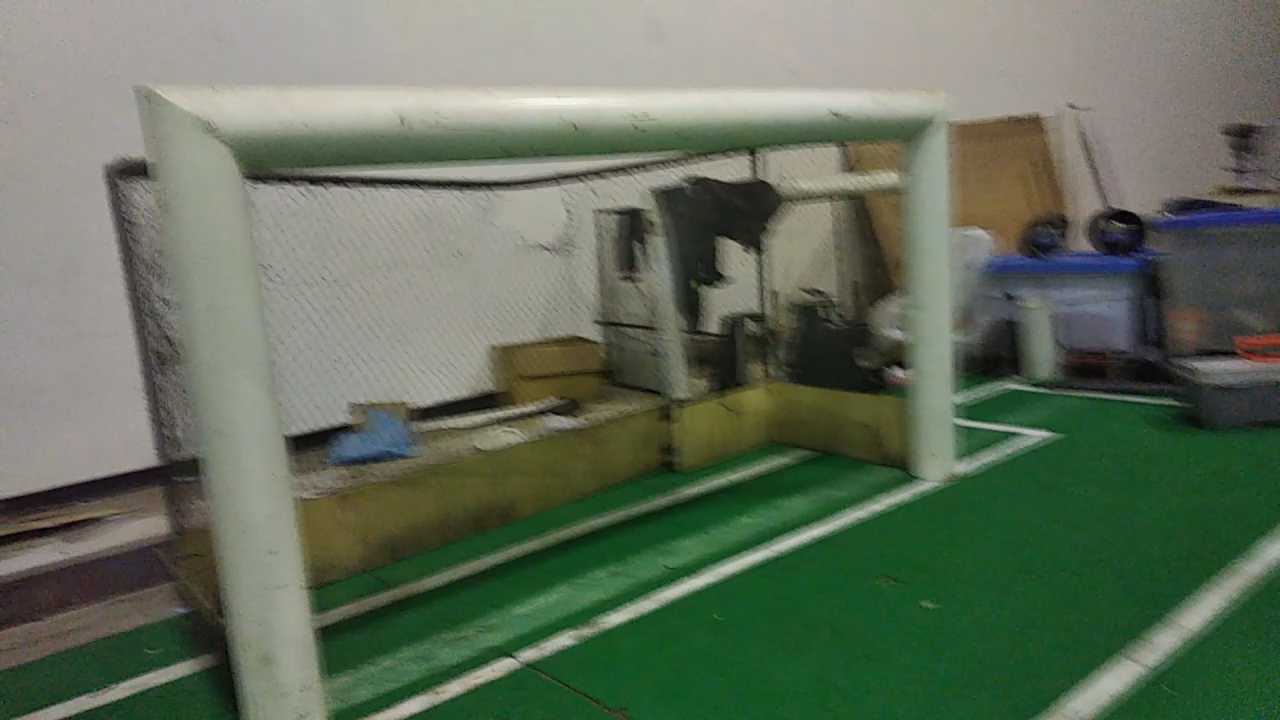gawang: (120, 67, 961, 719)
